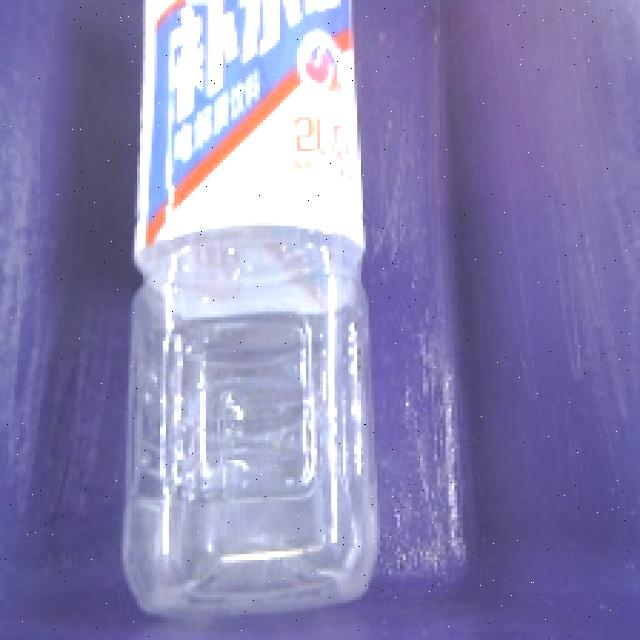plastic: (89, 0, 411, 640)
